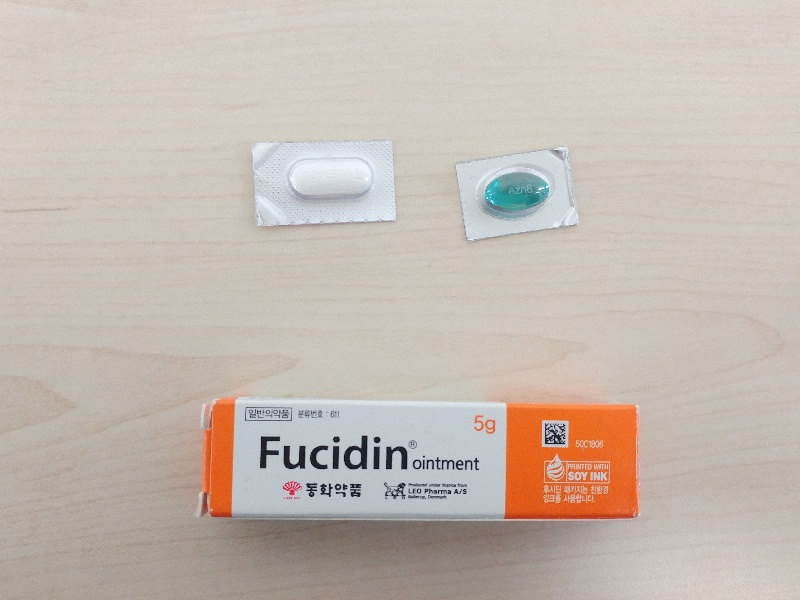fucidin: (204, 398, 639, 521)
pill_ezn: (457, 147, 579, 240)
pill_tylenol: (255, 140, 395, 226)
